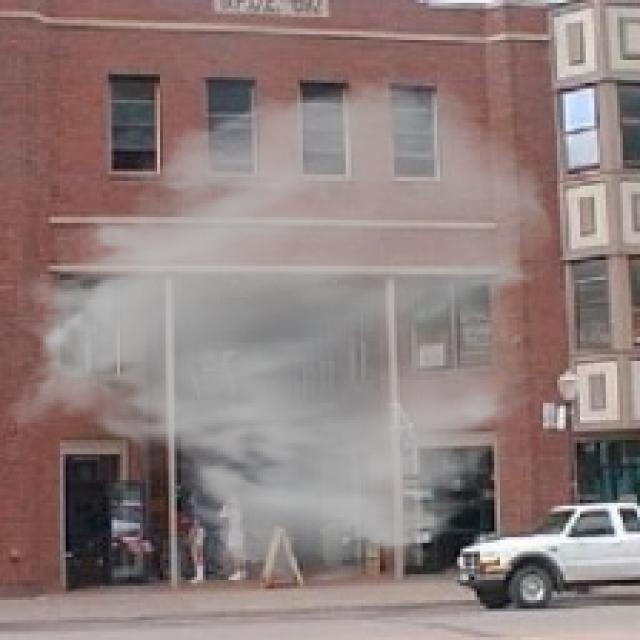smoke: (3, 71, 557, 588)
